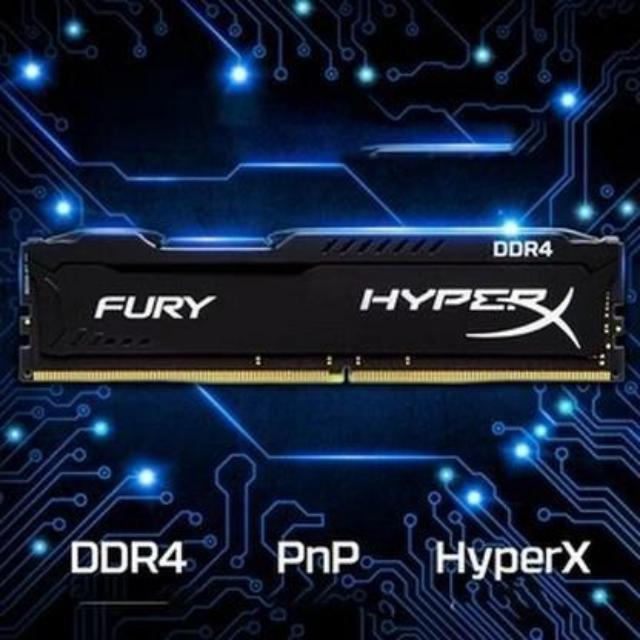RAM: (12, 218, 630, 392)
